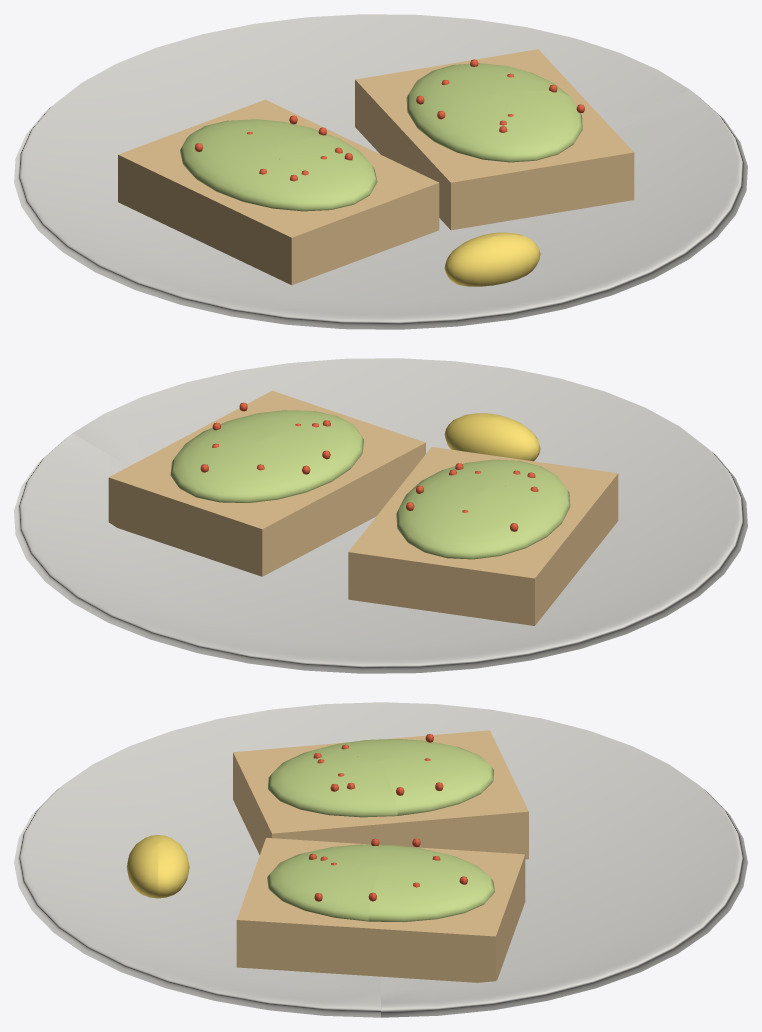
The model's file is avocado-toast.glb.
3 renders of one model, top to bottom at view 1: azimuth 30°, elevation 25°; view 2: azimuth 150°, elevation 25°; view 3: azimuth 270°, elevation 25°, orthographic.
Visible parts, largest first — view 1: avocado-toast; view 2: avocado-toast; view 3: avocado-toast.
Boxes of the visible parts, box(x1,y1,x2,y2) form: avocado-toast: box(14, 14, 747, 329); avocado-toast: box(14, 358, 747, 673); avocado-toast: box(14, 702, 747, 1017).
Size of the model in its own units: 0.28 by 0.036 by 0.28.
